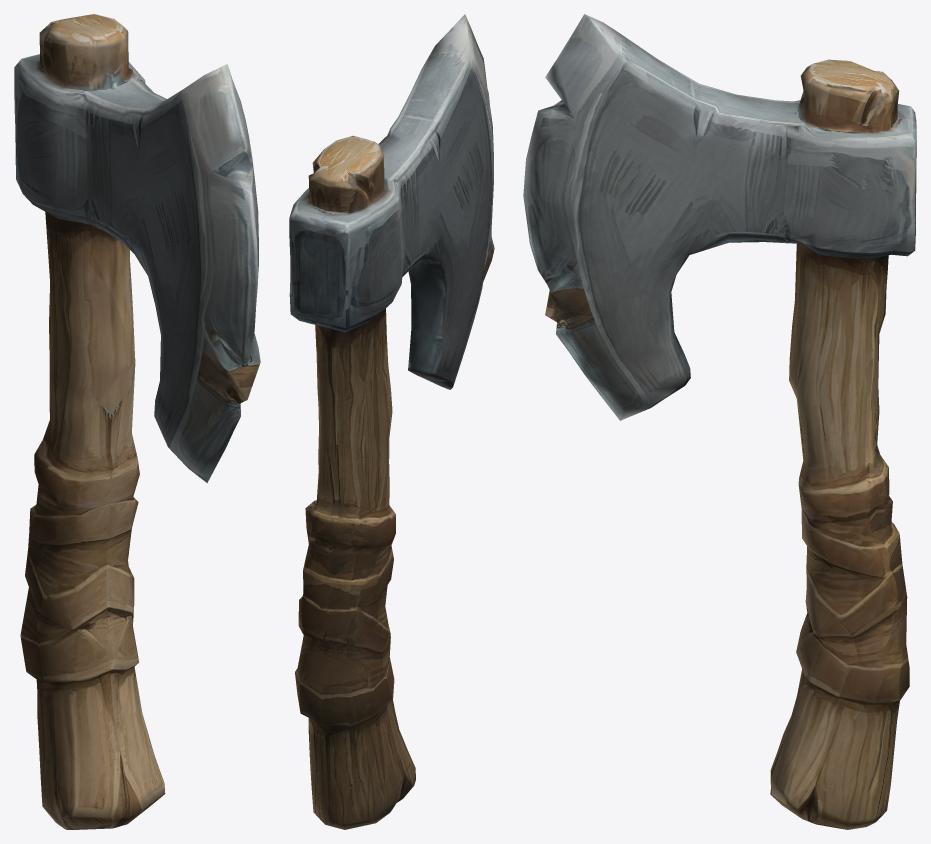
The model's file is Prop_Weapon_HandAxe.fbx.
The picture shows the model from 3 angles, left to right: view 1: azimuth 30°, elevation 25°; view 2: azimuth 150°, elevation 25°; view 3: azimuth 270°, elevation 25°; orthographic projection. The views are drawn at different scales.
Visible parts, largest first — view 1: texture_mapping; view 2: texture_mapping; view 3: texture_mapping.
Part boxes in pixels (<box>): texture_mapping: <box>14,14,260,829</box>; texture_mapping: <box>289,14,494,829</box>; texture_mapping: <box>523,14,916,829</box>.
Bounding box in the file's own units: 0.1254 × 0.4443 × 1.
Materials: 1 (1 with a texture image).
